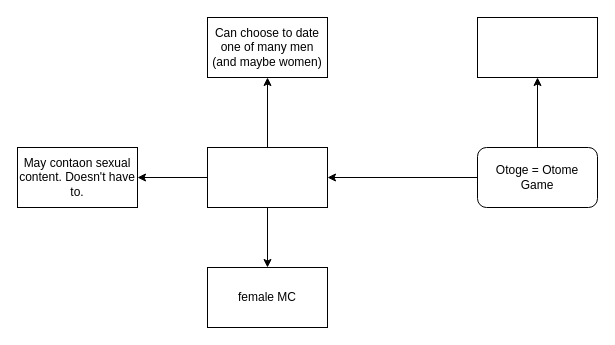
Image size: 615x345. Some labels were removed from this diagram. The shapes that lost their labels are listed below. From the top down, each one's centre as x and y in pixels, then its label:
At point 537,47: "Targeted towards women".
At point 267,177: "Dating Sim Elemente".
